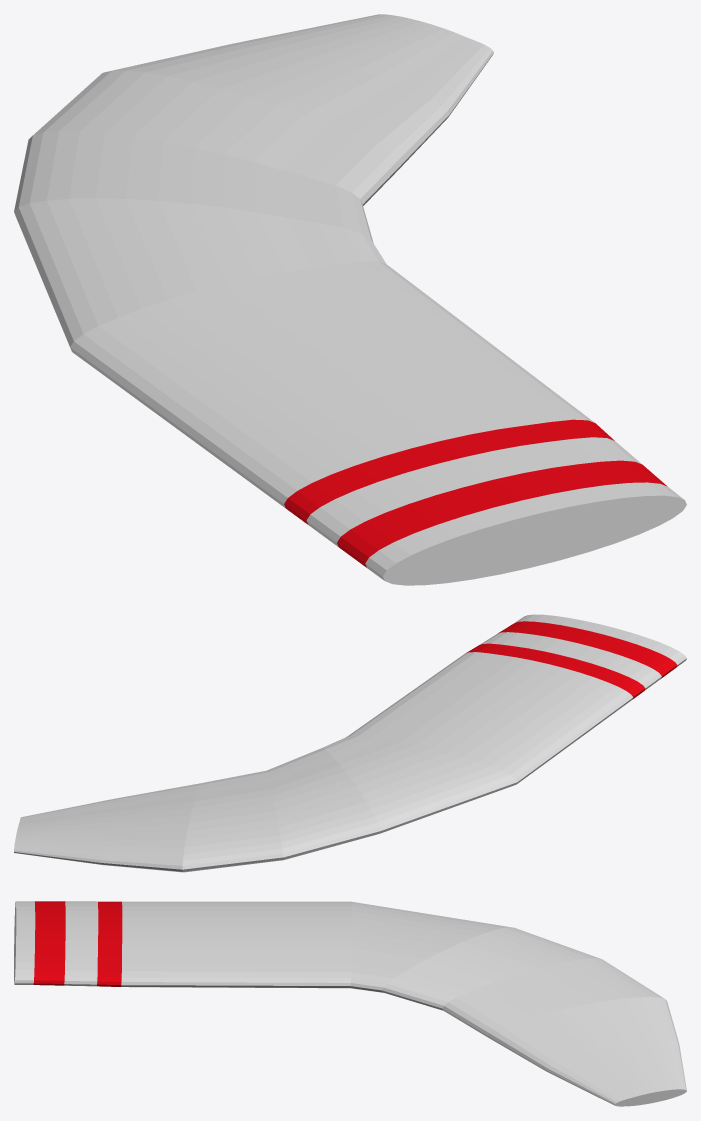
Rendered from Temp sock.fbx.
3 views of the same model, one above another, from view 1: azimuth 30°, elevation 25°; view 2: azimuth 150°, elevation 25°; view 3: azimuth 270°, elevation 25° (orthographic). The views are drawn at different scales.
Parts seen in each view (by area): view 1: Cylinder; view 2: Cylinder; view 3: Cylinder.
Part boxes in pixels (left/top/right/bottom): Cylinder: left=14, top=14, right=686, bottom=585; Cylinder: left=14, top=614, right=686, bottom=872; Cylinder: left=14, top=901, right=686, bottom=1106.
Bounding box in the file's own units: 233 × 28.16 × 379.
